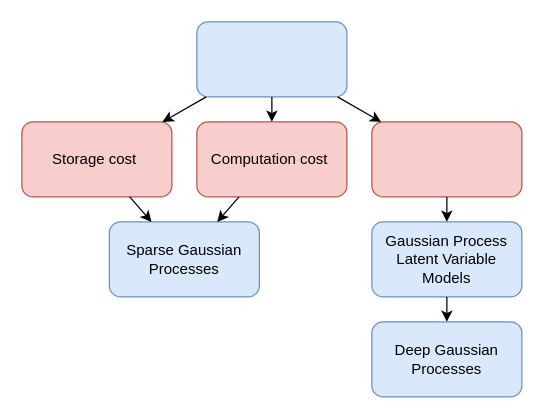
Some shapes in this 544 by 419 pixel diagram are drawn without their labels. The shapes that lost their labels are listed below. From the top down, each one's box as (x1, y1, x2, y2) in pixels, then its label:
(196, 21, 347, 97): Gaussian Processes
(371, 121, 522, 197): Hierarchical feature extraction
